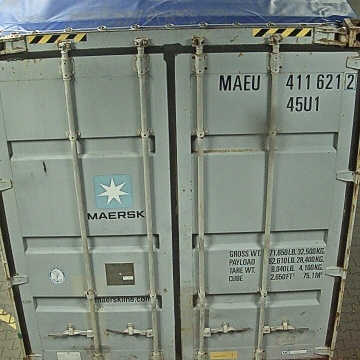serial_id: (220, 74, 356, 90)
